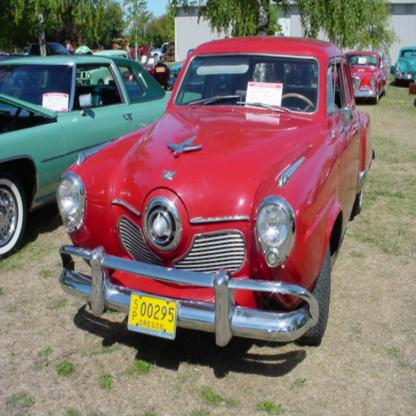Car: (47, 39, 361, 361), (0, 53, 200, 256), (330, 51, 388, 104), (394, 49, 416, 83)
